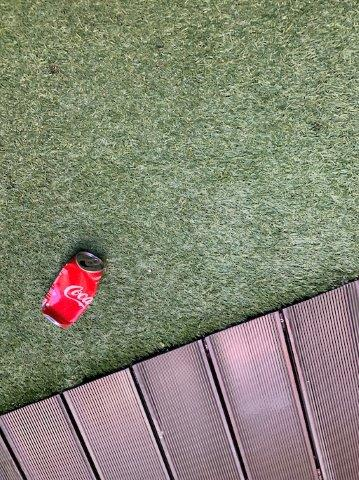kaleng: (43, 253, 104, 327)
